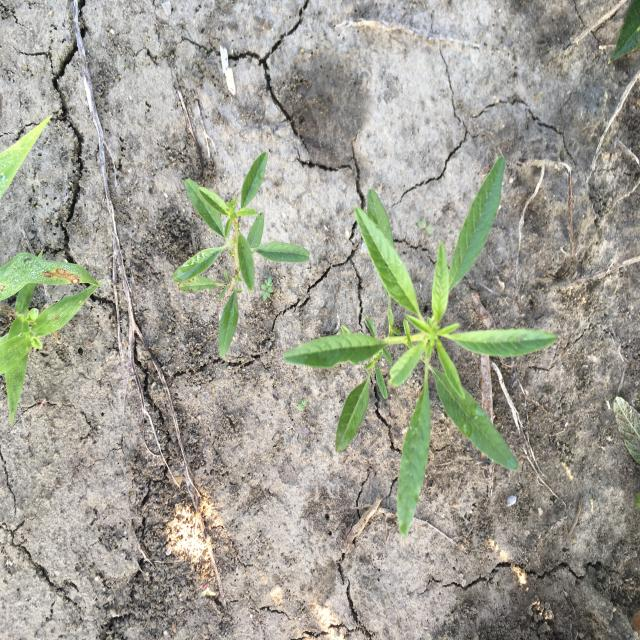Waterhemp: (280, 154, 558, 539), (171, 150, 311, 360), (613, 395, 639, 465)
